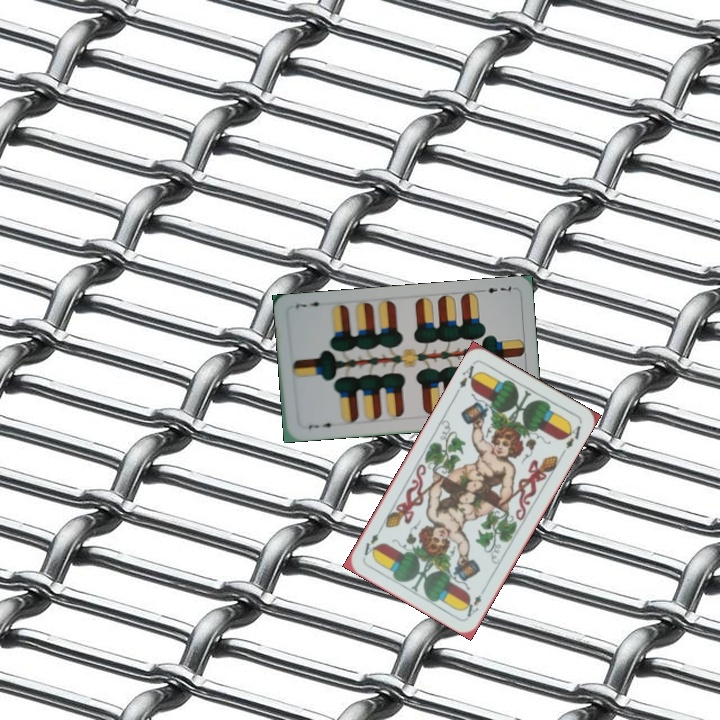E7: (476, 282, 516, 296), (304, 419, 338, 433)
EA: (452, 359, 481, 396), (460, 583, 489, 620)
